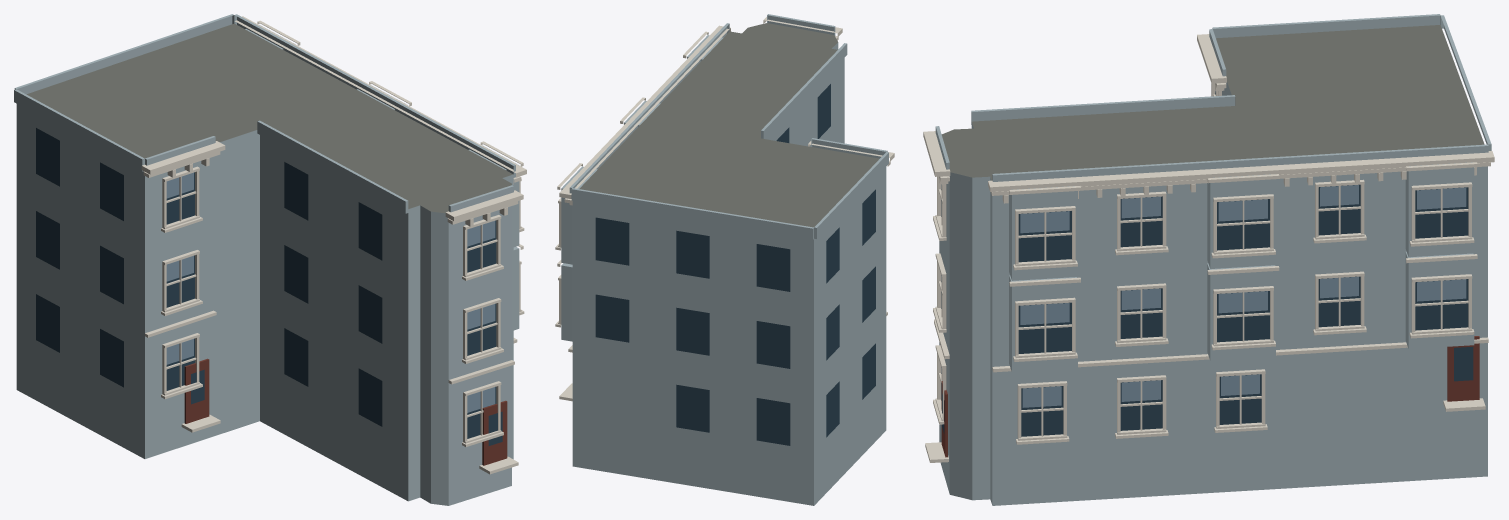
3 renders of one model, left to right at view 1: azimuth 30°, elevation 25°; view 2: azimuth 150°, elevation 25°; view 3: azimuth 270°, elevation 25°, orthographic. The views are drawn at different scales.
Visible parts, largest first — view 1: Footprint 0 / surface 2, Footprint 0 / surface 1, Inset glazing, Cornices and window frames, Facade bay volumes, Sky reflection panels, Storefronts and doors; view 2: Footprint 0 / surface 2, Footprint 0 / surface 1, Inset glazing, Facade bay volumes, Cornices and window frames; view 3: Footprint 0 / surface 2, Footprint 0 / surface 1, Cornices and window frames, Facade bay volumes, Inset glazing, Sky reflection panels, Storefronts and doors.
Part boxes in pixels (left/top/right/bottom): Footprint 0 / surface 2: left=16, top=104, right=513, bottom=505; Footprint 0 / surface 1: left=26, top=23, right=512, bottom=213; Inset glazing: left=36, top=128, right=502, bottom=445; Cornices and window frames: left=141, top=16, right=526, bottom=474; Facade bay volumes: left=14, top=14, right=519, bottom=330; Sky reflection panels: left=166, top=172, right=495, bottom=412; Storefronts and doors: left=184, top=358, right=507, bottom=465; Footprint 0 / surface 2: left=572, top=42, right=886, bottom=505; Footprint 0 / surface 1: left=579, top=23, right=879, bottom=227; Inset glazing: left=595, top=84, right=875, bottom=445; Facade bay volumes: left=561, top=14, right=888, bottom=341; Cornices and window frames: left=555, top=17, right=894, bottom=401; Footprint 0 / surface 2: left=939, top=82, right=1487, bottom=505; Footprint 0 / surface 1: left=941, top=25, right=1484, bottom=180; Cornices and window frames: left=923, top=34, right=1494, bottom=462; Facade bay volumes: left=935, top=14, right=1491, bottom=372; Inset glazing: left=941, top=93, right=1473, bottom=436; Sky reflection panels: left=941, top=91, right=1466, bottom=407; Storefronts and doors: left=941, top=336, right=1479, bottom=457.
Bounding box in the file's own units: 13.7 × 12.39 × 19.32.
